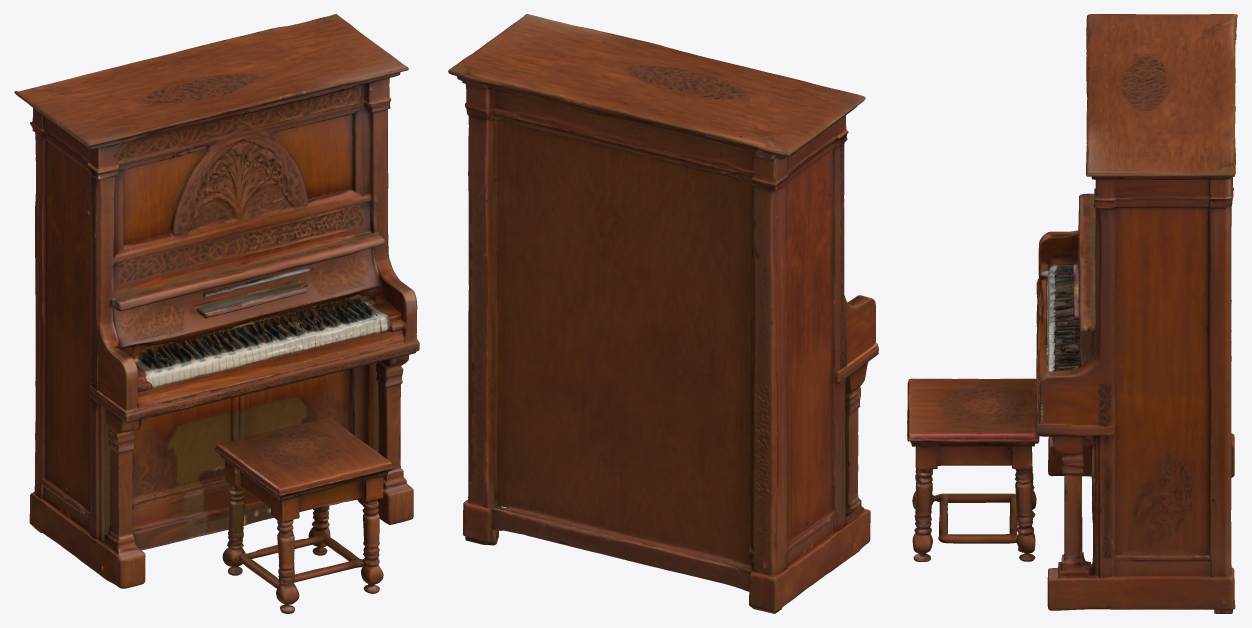
The model's file is Timeless_Keys_0722170227_texture.fbx.
3 views of the same model, side by side, from view 1: azimuth 30°, elevation 25°; view 2: azimuth 150°, elevation 25°; view 3: azimuth 270°, elevation 25° (orthographic). The views are drawn at different scales.
Parts seen in each view (by area): view 1: Mesh_0; view 2: Mesh_0; view 3: Mesh_0.
Boxes of the visible parts, bbox=[...] form: Mesh_0: bbox=[14, 14, 419, 613]; Mesh_0: bbox=[448, 14, 878, 613]; Mesh_0: bbox=[907, 14, 1237, 613].
Size of the model in its own units: 152 by 200 by 133.
Materials: 1 (1 with a texture image).
